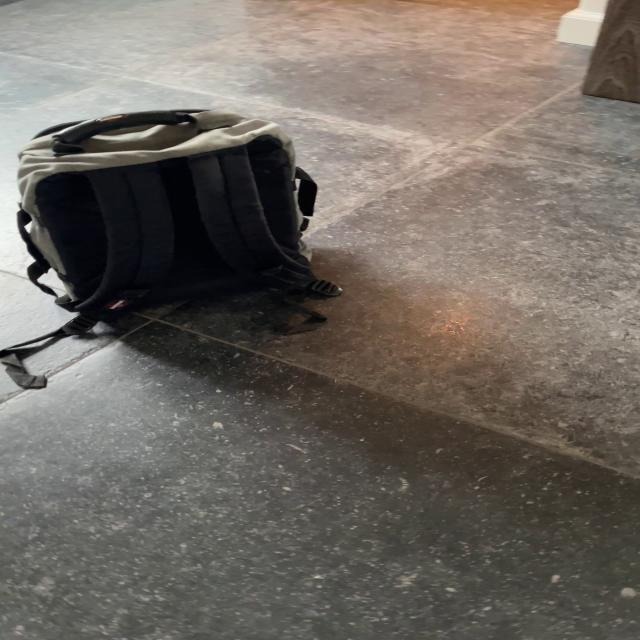backpack: (7, 99, 338, 336)
